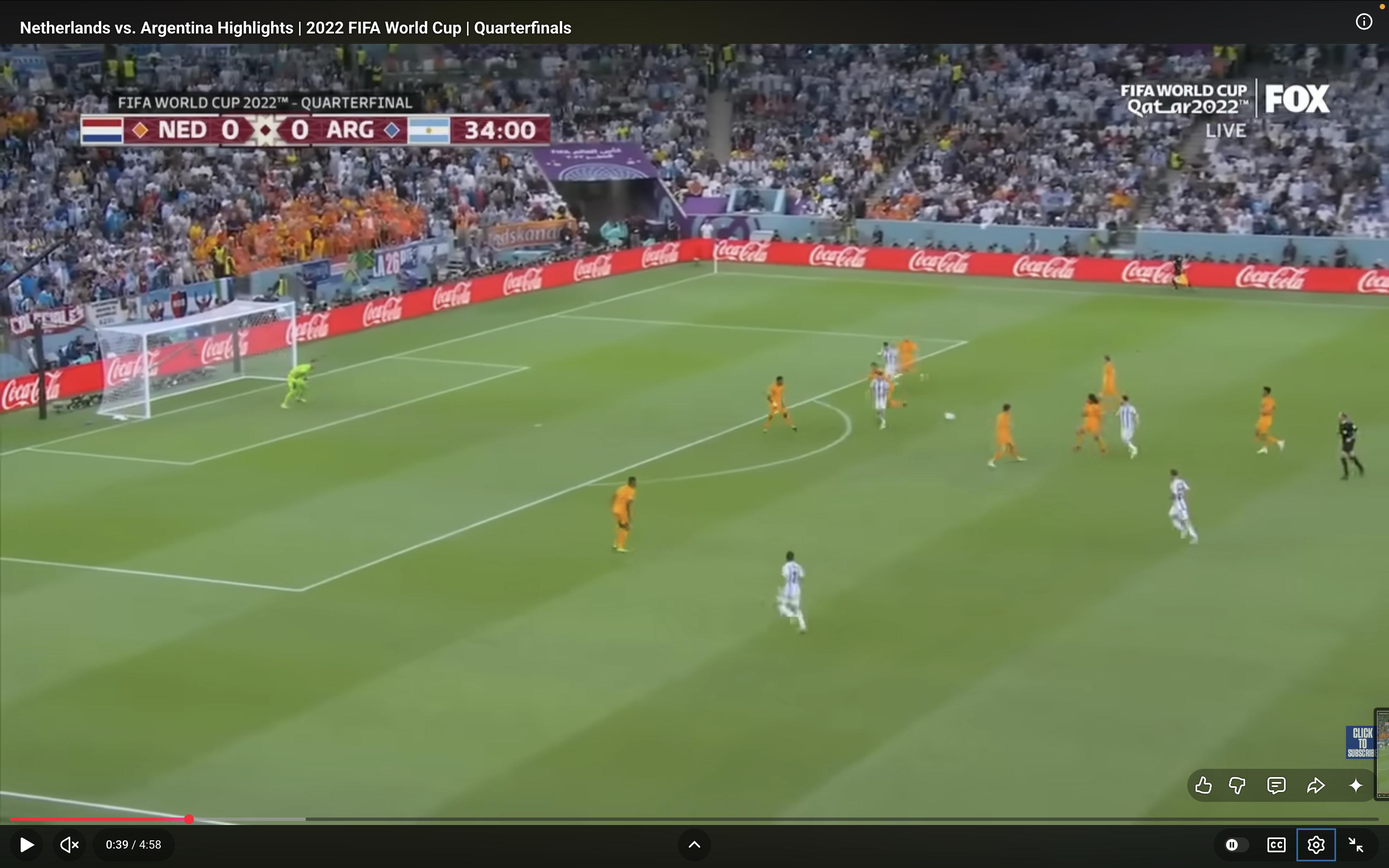ball: (944, 411, 955, 420)
goalkeeper: (282, 360, 316, 408)
player: (869, 363, 906, 429), (778, 551, 807, 633), (988, 403, 1025, 467), (1169, 470, 1198, 545), (1255, 387, 1285, 454), (1074, 393, 1107, 453), (611, 477, 637, 553), (764, 376, 797, 432), (1115, 396, 1139, 458), (877, 340, 900, 386), (1100, 355, 1119, 410), (897, 338, 918, 376)
referee: (1338, 413, 1365, 480), (1171, 255, 1190, 289)
